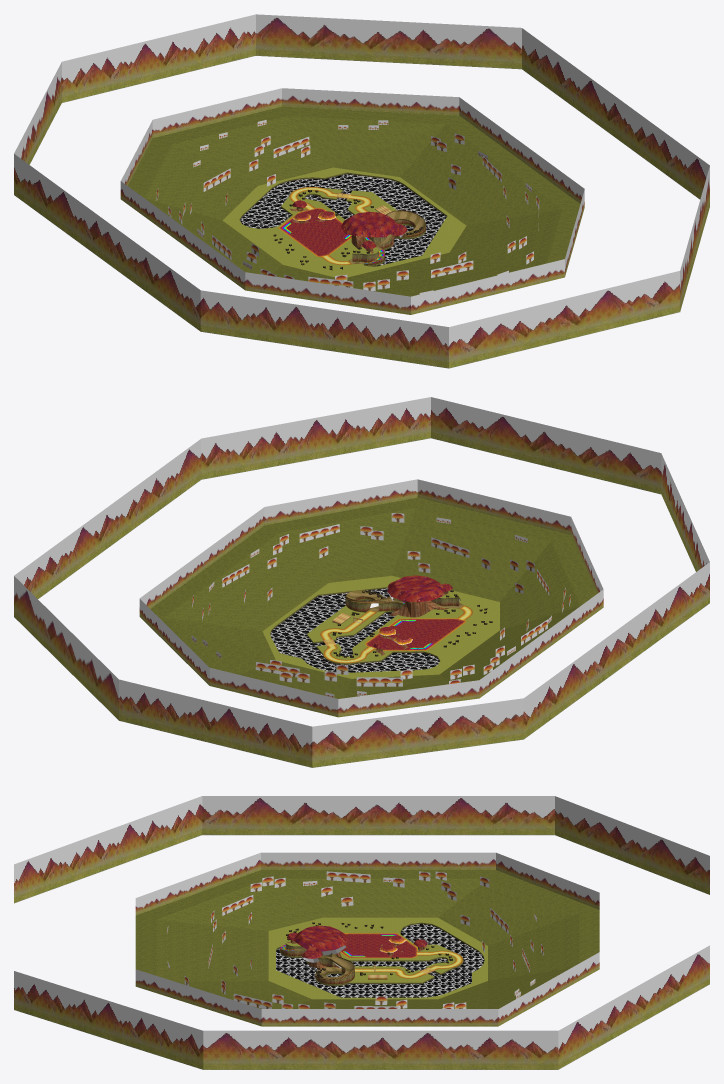
The picture shows the model from 3 angles, top to bottom: view 1: azimuth 30°, elevation 25°; view 2: azimuth 150°, elevation 25°; view 3: azimuth 270°, elevation 25°; orthographic projection. The views are drawn at different scales.
Parts seen in each view (by area): view 1: tree4_SKP__mountainWall.001, tree4_SKP__deepGras.001, tree4_SKP__grass.001, tree4_SKP__water.001, tree4_SKP__tree2D.001, tree4_SKP__leafs.001, tree4_SKP__dirt.001, tree4_SKP__dirtLeafs.001, tree4_SKP__tree.001, tree4_SKP__treeGroup.001; view 2: tree4_SKP__mountainWall.001, tree4_SKP__deepGras.001, tree4_SKP__grass.001, tree4_SKP__tree2D.001, tree4_SKP__water.001, tree4_SKP__leafs.001, tree4_SKP__dirt.001, tree4_SKP__dirtLeafs.001, tree4_SKP__treeLines.001; view 3: tree4_SKP__mountainWall.001, tree4_SKP__deepGras.001, tree4_SKP__grass.001, tree4_SKP__water.001, tree4_SKP__tree2D.001, tree4_SKP__leafs.001, tree4_SKP__dirt.001, tree4_SKP__dirtLeafs.001, tree4_SKP__tree.001.
Boxes of the visible parts, left/top/right/bottom form: tree4_SKP__mountainWall.001: left=14, top=14, right=709, bottom=368; tree4_SKP__deepGras.001: left=128, top=106, right=580, bottom=296; tree4_SKP__grass.001: left=223, top=167, right=466, bottom=277; tree4_SKP__water.001: left=240, top=174, right=446, bottom=266; tree4_SKP__tree2D.001: left=156, top=133, right=539, bottom=290; tree4_SKP__leafs.001: left=287, top=200, right=407, bottom=255; tree4_SKP__dirt.001: left=239, top=172, right=447, bottom=266; tree4_SKP__dirtLeafs.001: left=289, top=187, right=372, bottom=265; tree4_SKP__tree.001: left=348, top=211, right=425, bottom=264; tree4_SKP__treeGroup.001: left=193, top=120, right=531, bottom=294; tree4_SKP__mountainWall.001: left=14, top=397, right=709, bottom=767; tree4_SKP__deepGras.001: left=150, top=497, right=597, bottom=698; tree4_SKP__grass.001: left=262, top=575, right=499, bottom=678; tree4_SKP__tree2D.001: left=192, top=513, right=570, bottom=686; tree4_SKP__water.001: left=270, top=588, right=460, bottom=672; tree4_SKP__leafs.001: left=367, top=575, right=463, bottom=649; tree4_SKP__dirt.001: left=270, top=587, right=460, bottom=664; tree4_SKP__dirtLeafs.001: left=319, top=605, right=473, bottom=663; tree4_SKP__treeLines.001: left=339, top=590, right=449, bottom=655; tree4_SKP__mountainWall.001: left=14, top=796, right=709, bottom=1069; tree4_SKP__deepGras.001: left=135, top=870, right=599, bottom=1008; tree4_SKP__grass.001: left=268, top=917, right=487, bottom=999; tree4_SKP__water.001: left=276, top=924, right=484, bottom=997; tree4_SKP__tree2D.001: left=184, top=871, right=543, bottom=1008; tree4_SKP__leafs.001: left=287, top=925, right=427, bottom=958; tree4_SKP__dirt.001: left=276, top=922, right=484, bottom=986; tree4_SKP__dirtLeafs.001: left=355, top=950, right=463, bottom=978; tree4_SKP__tree.001: left=280, top=945, right=353, bottom=978.
Bounding box in the file's own units: 202500 × 22298 × 253681.
25 materials, 25 textured.
